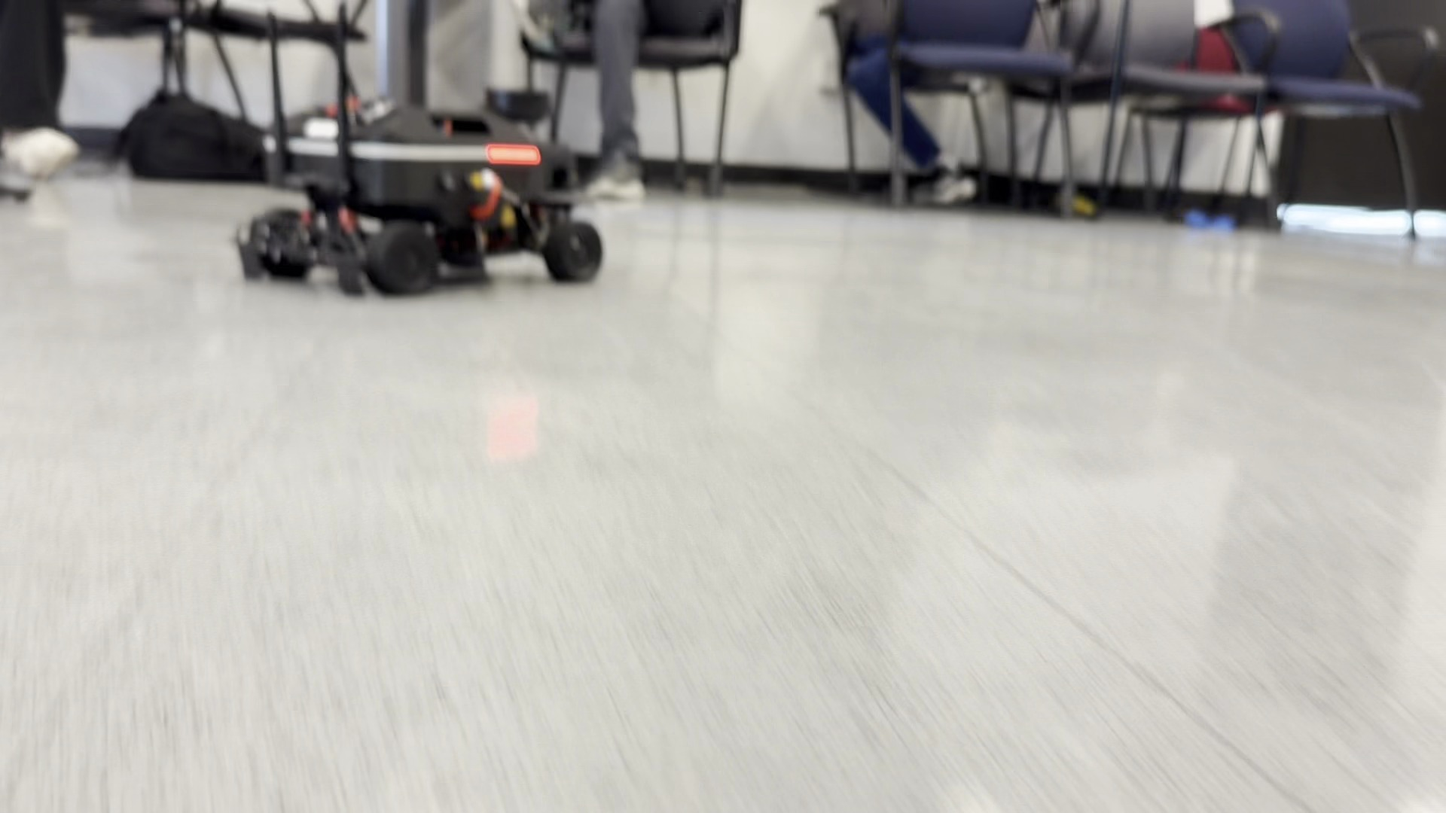racecar: (236, 92, 603, 298)
